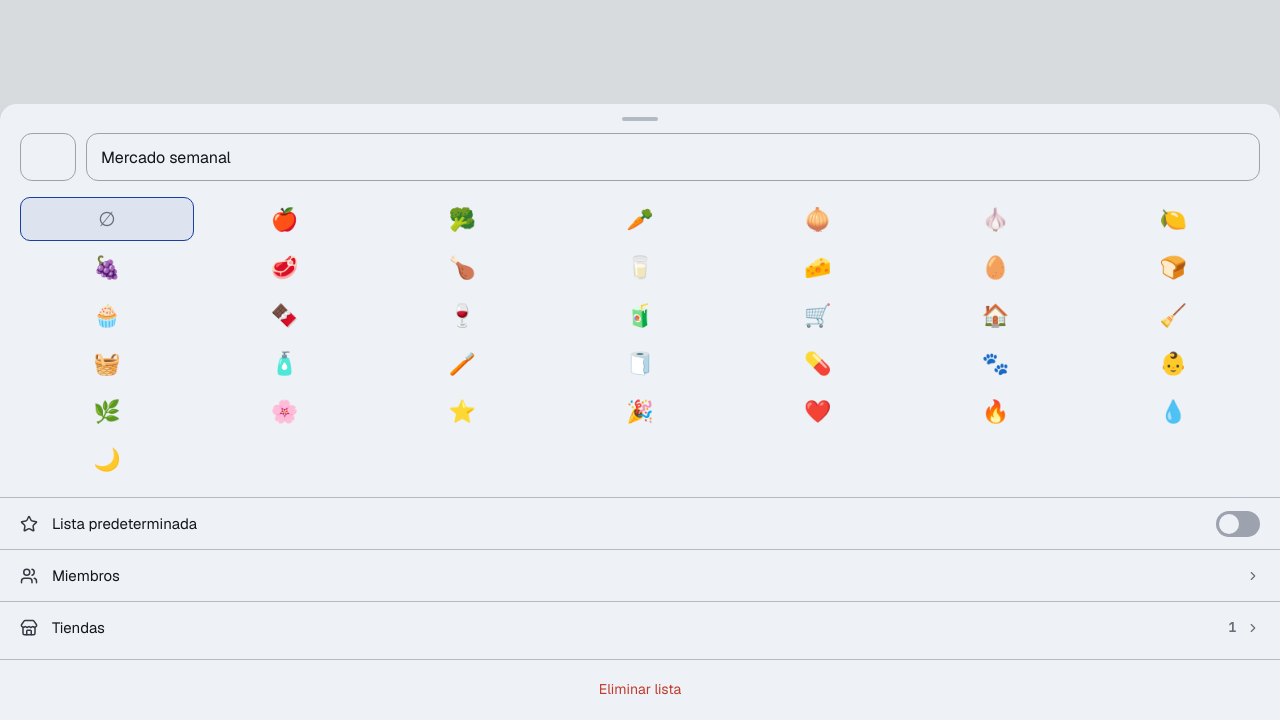
Test: dismissing a sub-sheet goes back to the menu, not closing
Click the button "Tiendas 1" at (78, 627), box left=0, top=601, right=1279, bottom=653
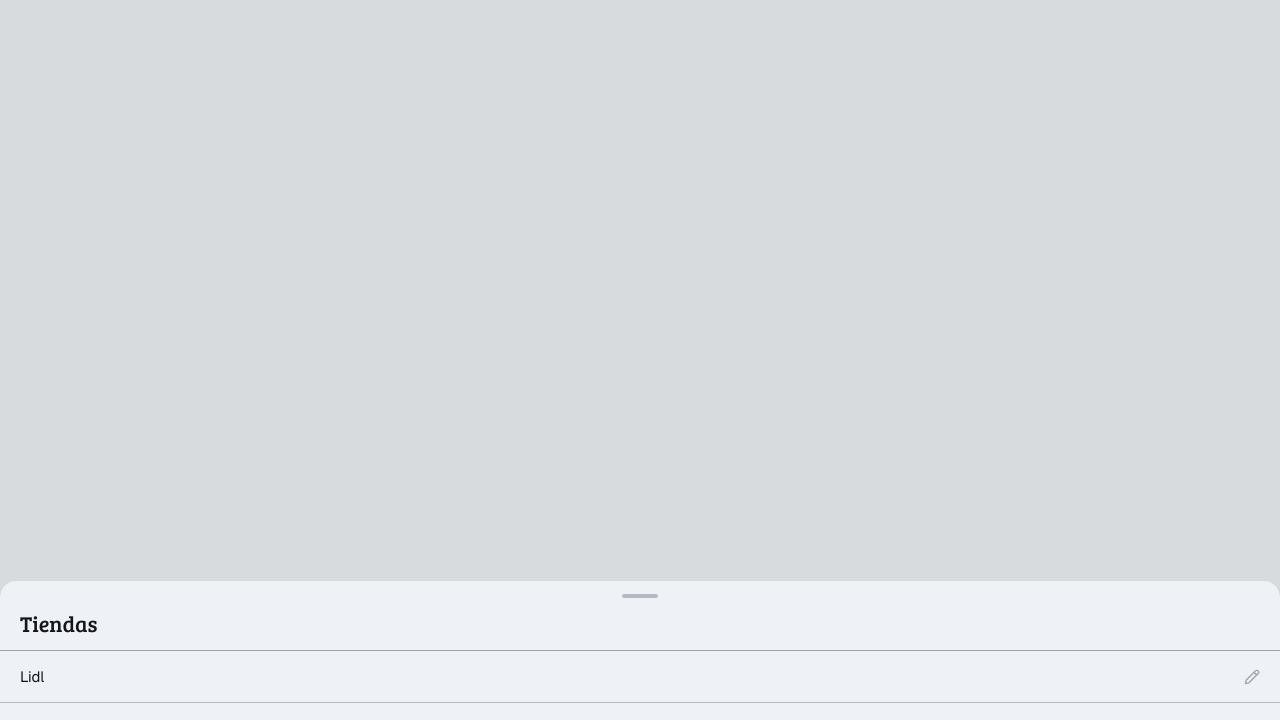
Press Escape
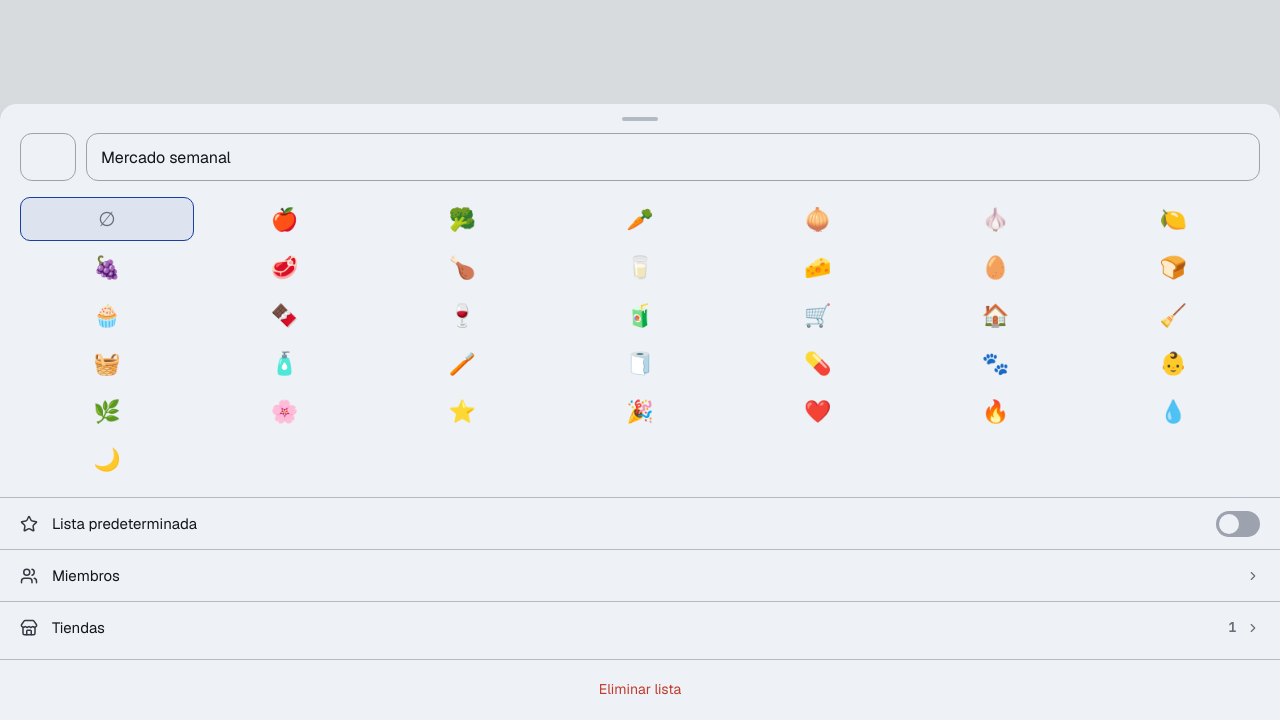
expect the field named "Nombre de la lista" is shown: met, box left=86, top=133, right=1260, bottom=181
